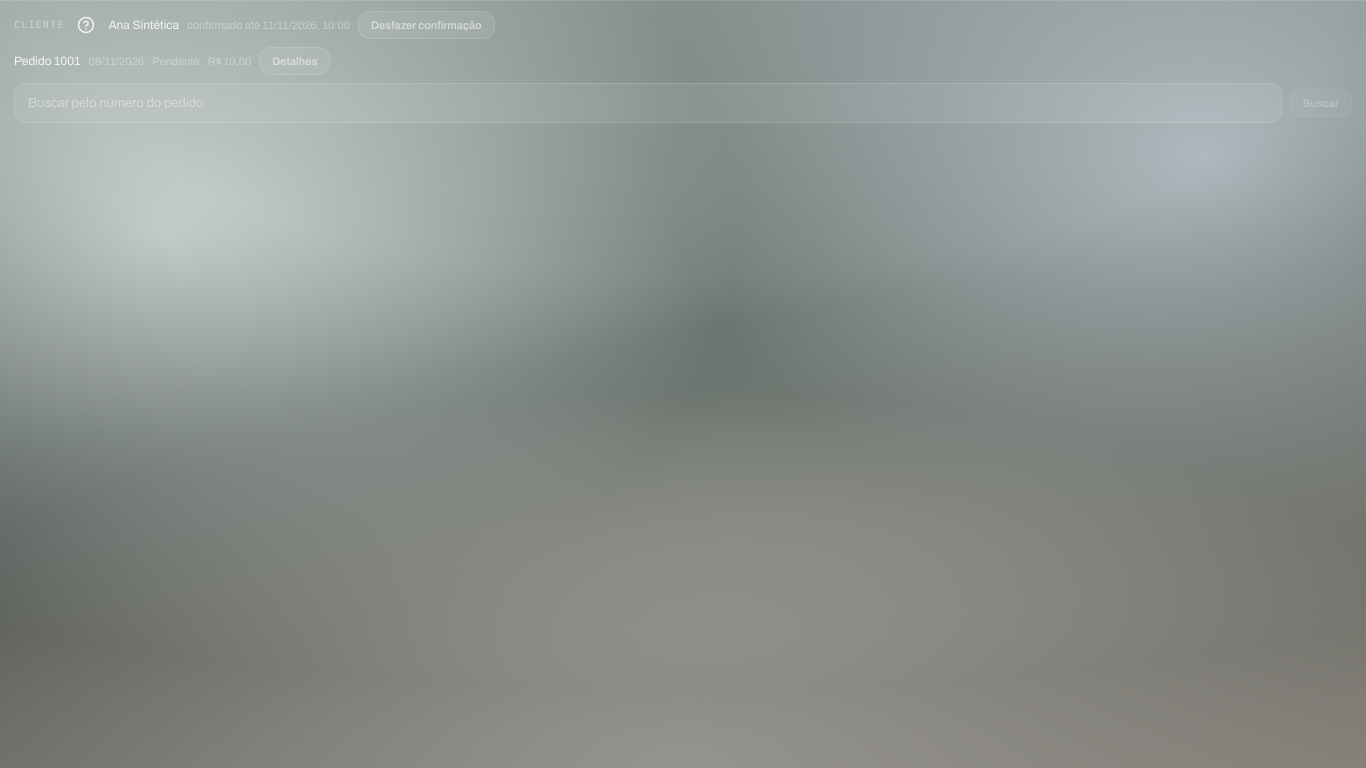
PainelDoCliente — detalhes do pedido (MSG-011) › Detalhes abre o retrato do pedido da conversa; trocar de conversa fecha
Click the button with aria-label "Detalhes do pedido 1001": (295, 61) [259,47,330,75]
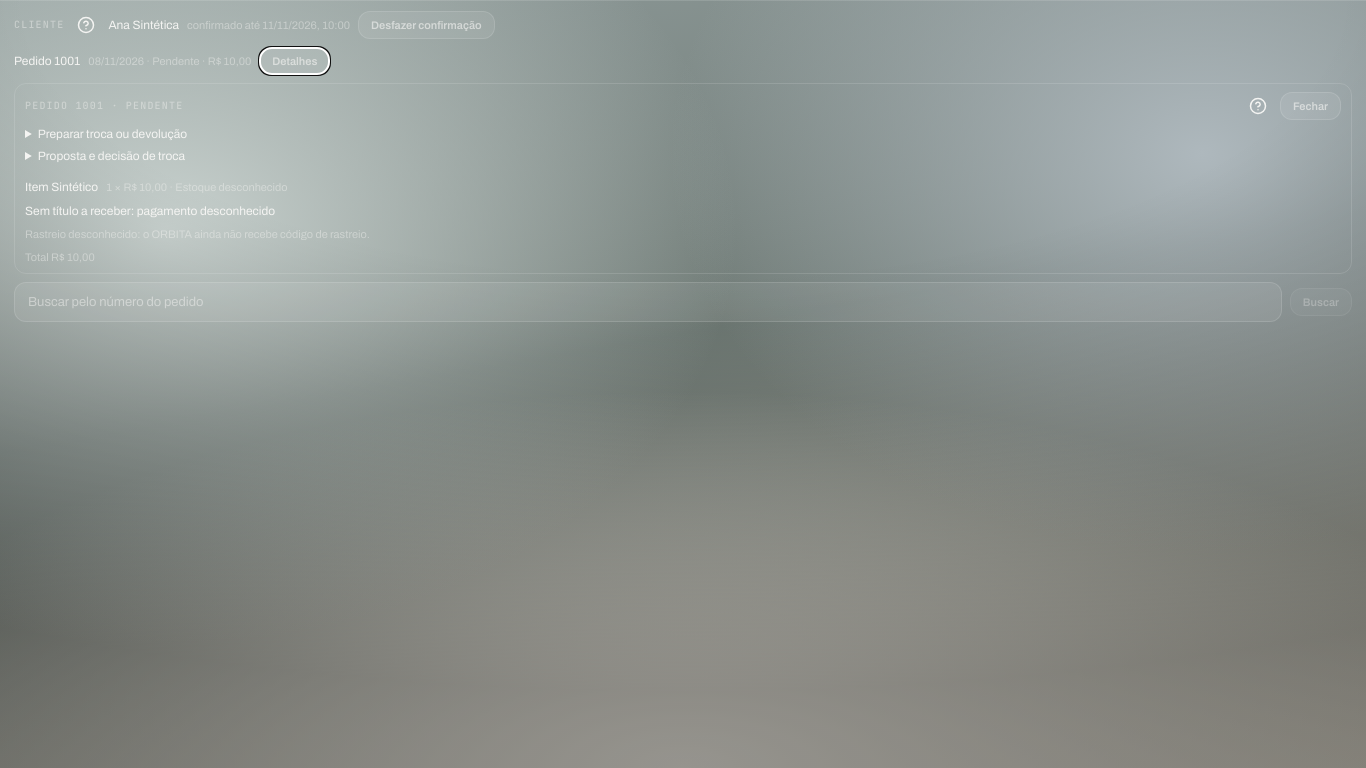
expect the text "Item Sintético" is shown: met, box [25,178,98,196]
